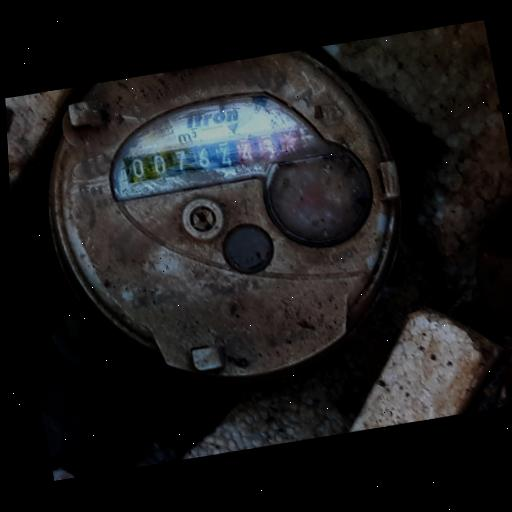0: (129, 154, 149, 183), (149, 150, 169, 179)
4: (214, 140, 237, 169), (235, 135, 257, 165)
5: (256, 131, 280, 166)
6: (194, 143, 214, 171)
7: (172, 147, 190, 172)
border_water_meter_number: (120, 123, 308, 190)
